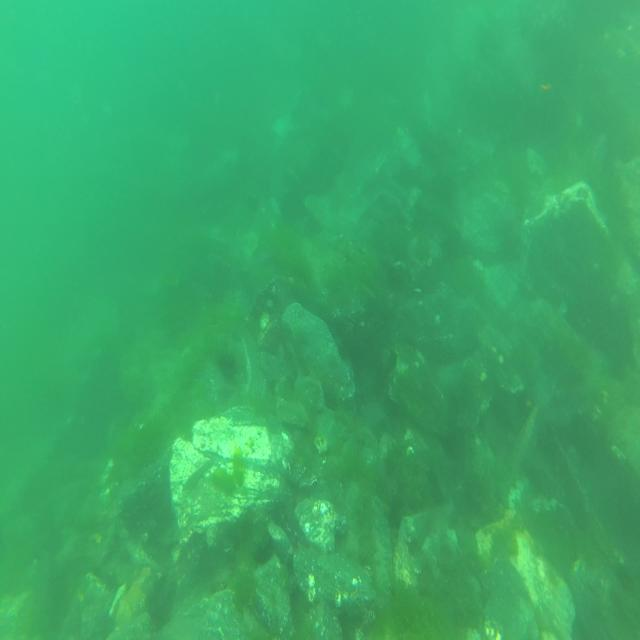echinus: (253, 532, 274, 565), (217, 350, 238, 382)
